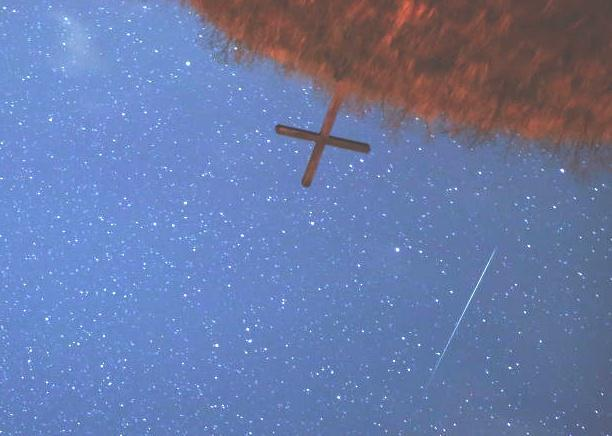meteorite: (422, 247, 503, 392)
